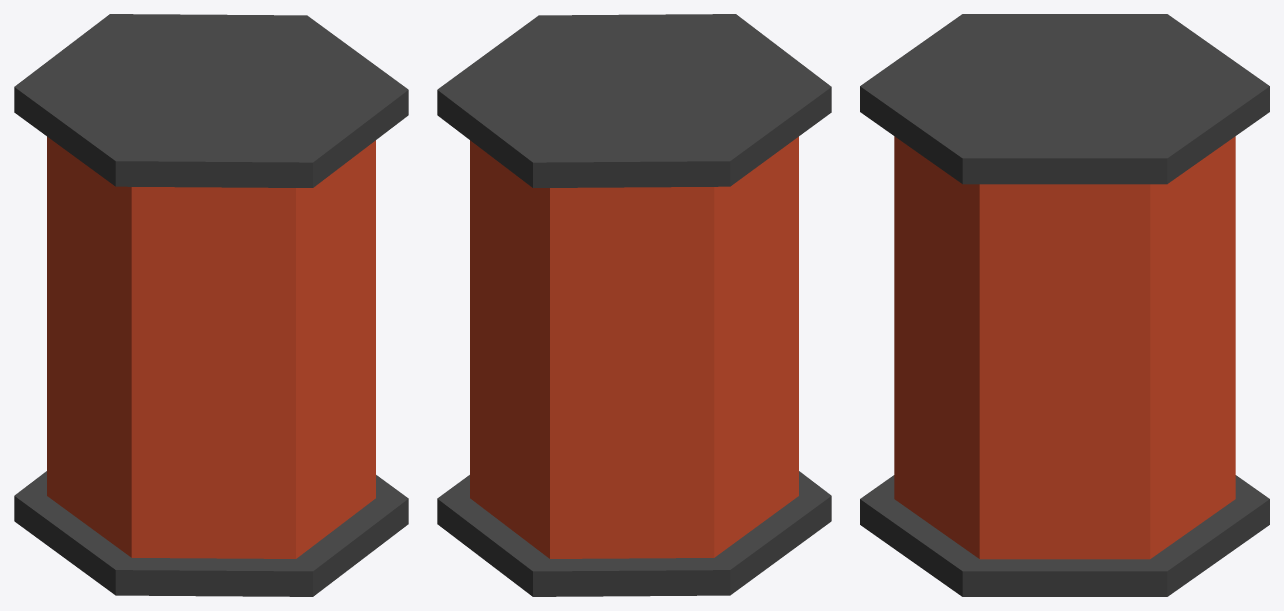
Rendered from Barrel.fbx.
3 views of the same model, side by side, from view 1: azimuth 30°, elevation 25°; view 2: azimuth 150°, elevation 25°; view 3: azimuth 270°, elevation 25° (orthographic).
Parts seen in each view (by area): view 1: Cylinder; view 2: Cylinder; view 3: Cylinder.
Boxes of the visible parts, x1=… form: Cylinder: x1=14, y1=14, x2=408, y2=596; Cylinder: x1=437, y1=14, x2=831, y2=596; Cylinder: x1=860, y1=14, x2=1269, y2=596.
Bounding box in the file's own units: 120 × 170 × 144.
